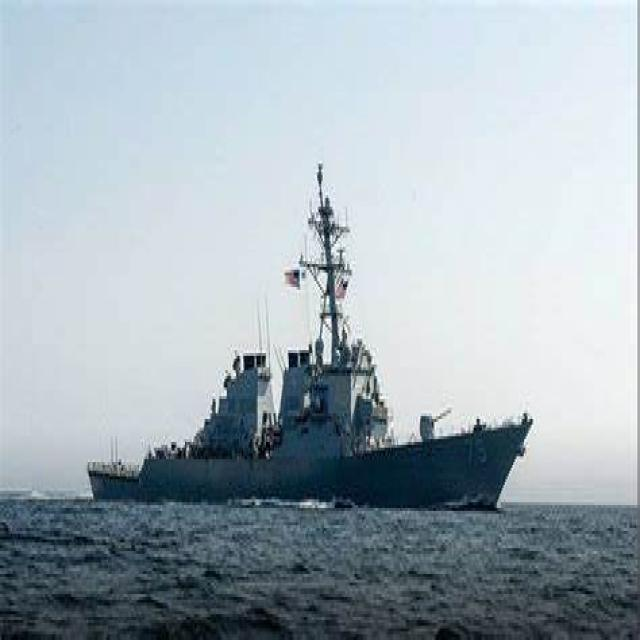navalvessels: (87, 168, 533, 520)
